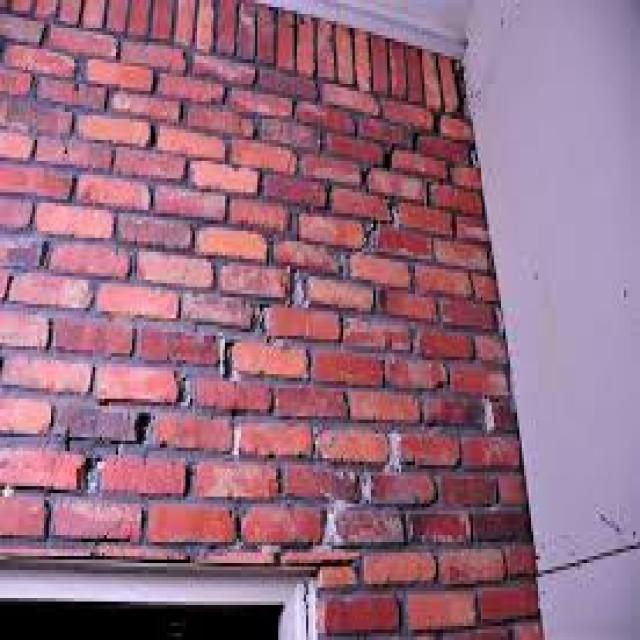Crack: (74, 60, 462, 493)
